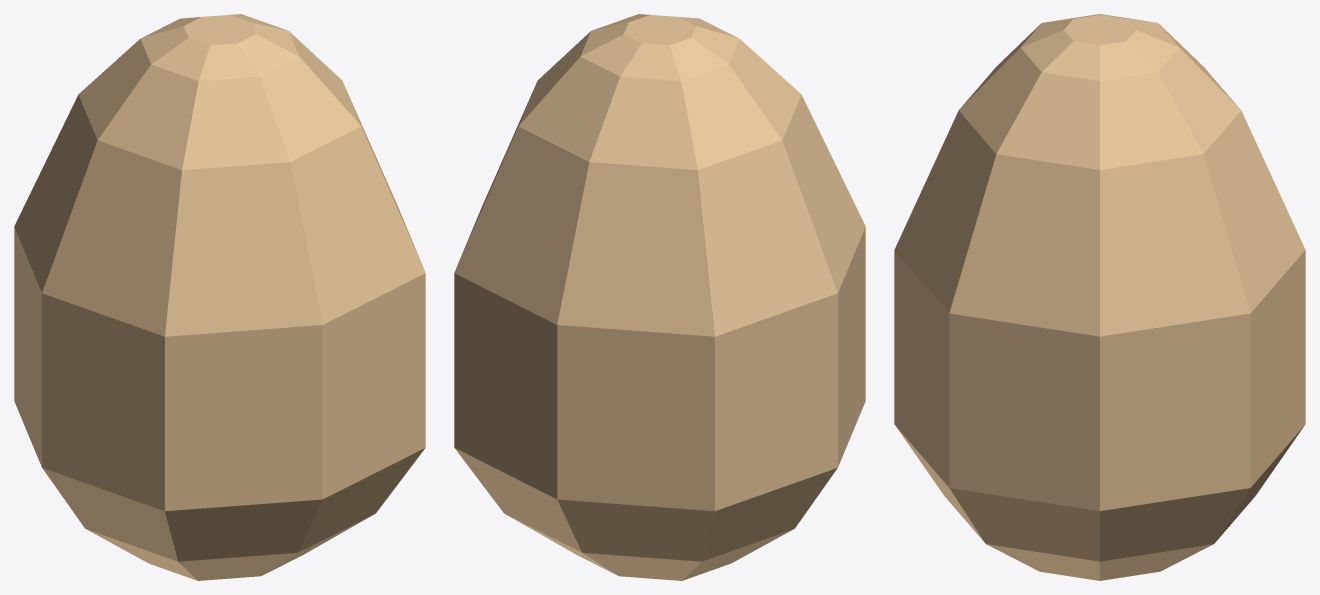
Rendered from egg.obj.
3 views of the same model, side by side, from view 1: azimuth 30°, elevation 25°; view 2: azimuth 150°, elevation 25°; view 3: azimuth 270°, elevation 25° (orthographic).
Parts seen in each view (by area): view 1: Cube.001_Cube.000-Mesh; view 2: Cube.001_Cube.000-Mesh; view 3: Cube.001_Cube.000-Mesh.
Boxes of the visible parts, x1=… form: Cube.001_Cube.000-Mesh: x1=14, y1=14, x2=425, y2=580; Cube.001_Cube.000-Mesh: x1=454, y1=14, x2=865, y2=580; Cube.001_Cube.000-Mesh: x1=894, y1=14, x2=1305, y2=580.
Size of the model in its own units: 0.4732 by 0.6557 by 0.4732.
Materials: 1 (1 with a texture image).
